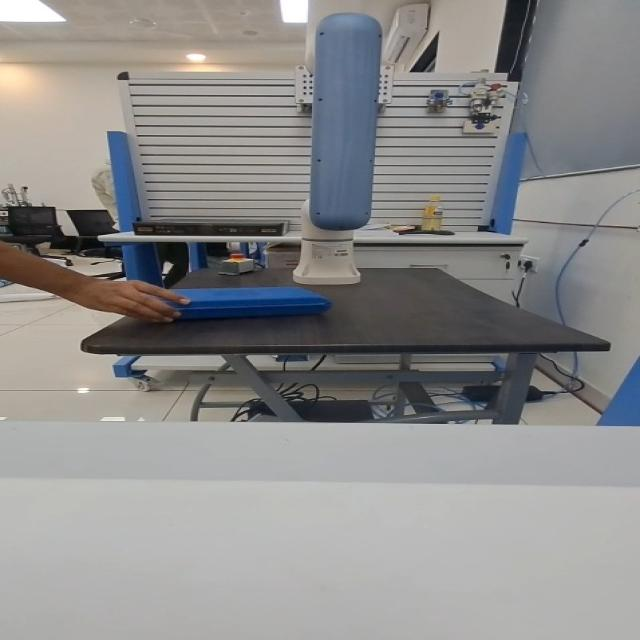top-surface: (168, 288, 305, 300)
